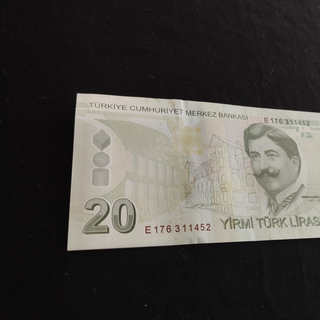20TLBack: (66, 93, 320, 251)
